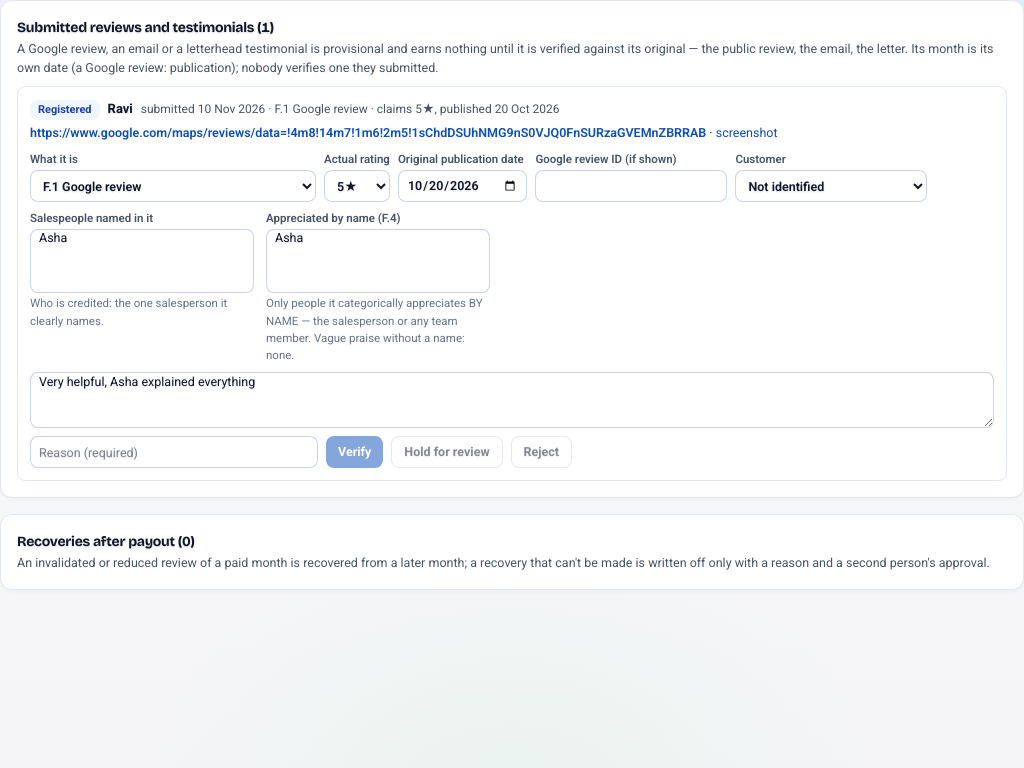
Test: Category F review screen: refusals (a right missing or removed after the page opened) › verify refused after the page opened: the message is shown, the buttons work again, everything typed stays, no refresh
Later steps or results of the test are not shown.
Select "4★" in the dropdown labelled "Actual rating". click: [357, 186]
box: x1=324 y1=170 x2=390 y2=202
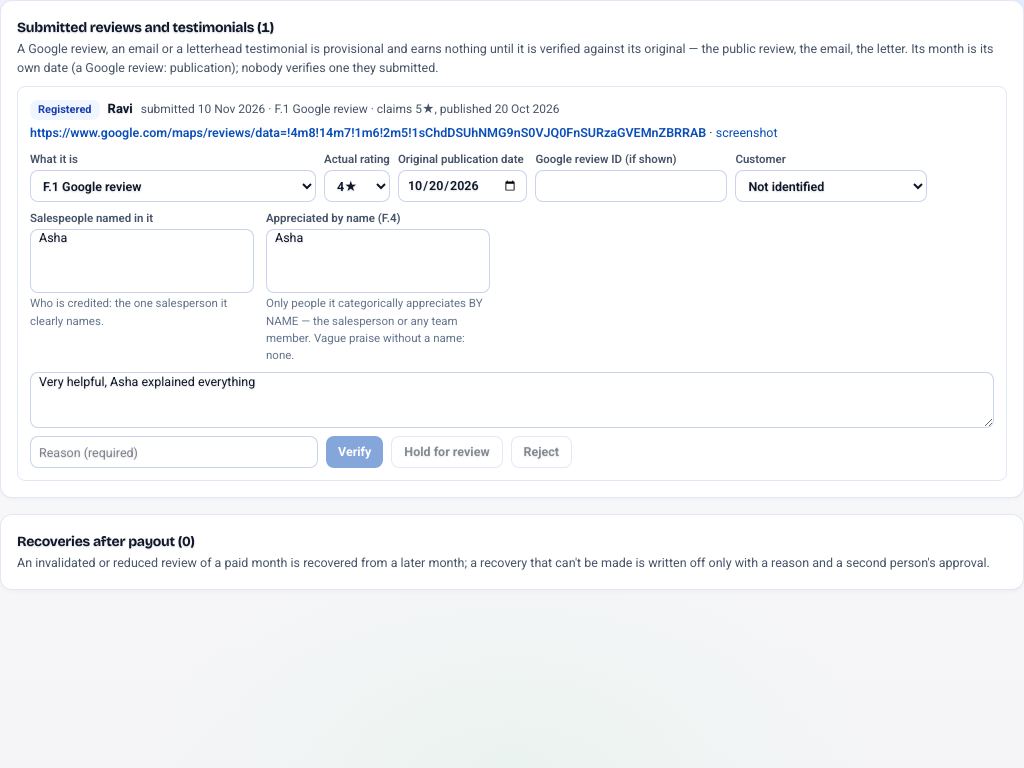
Type "ChdABC" into the field labelled "Google review ID". click: [631, 186]
box: x1=535 y1=170 x2=727 y2=202
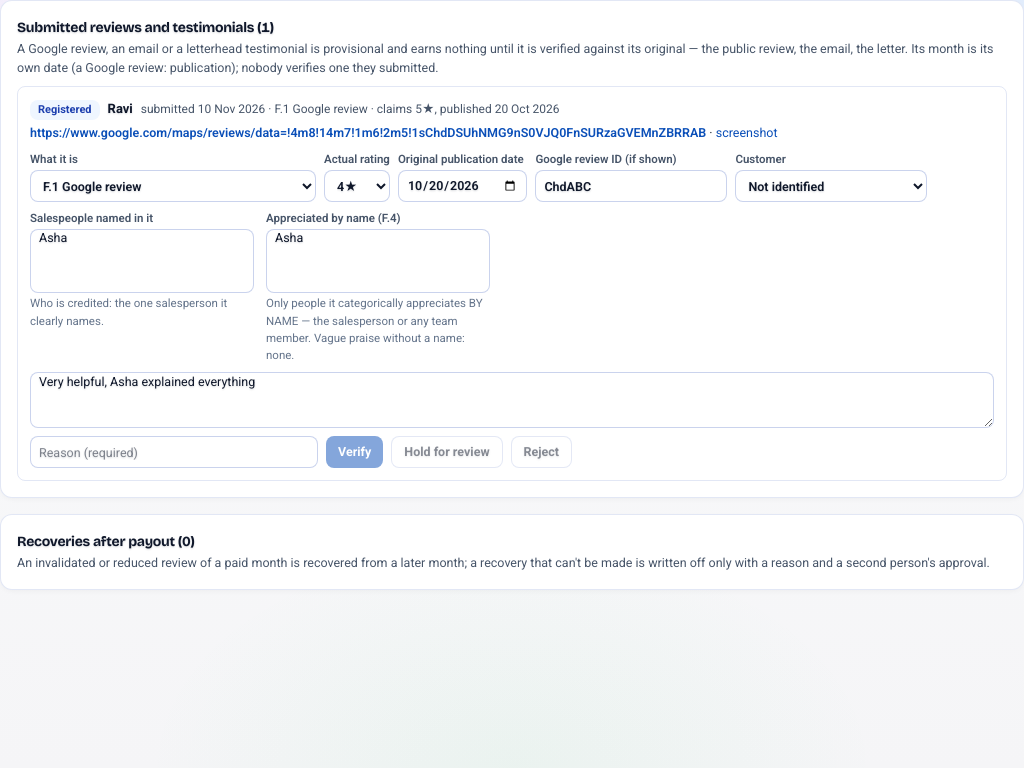
Type "Checked the public review" into the field with placeholder "Reason (required)". click: [174, 452]
box: x1=30 y1=436 x2=318 y2=468
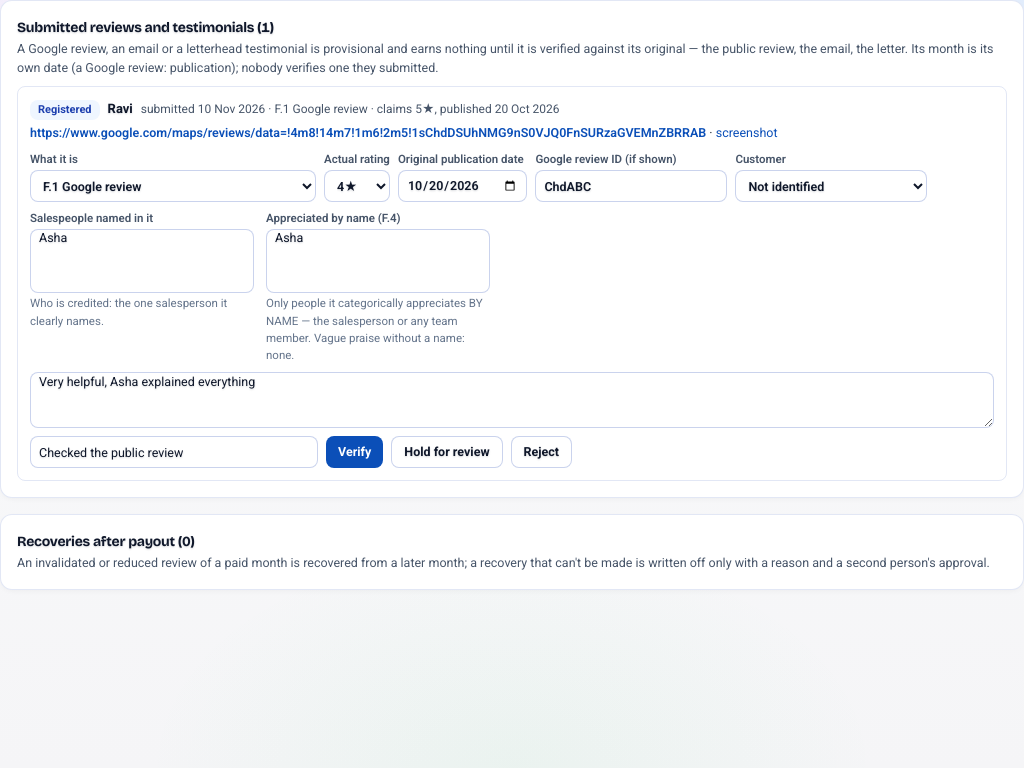
Click the button "Verify". click: [355, 452]
box: x1=326 y1=436 x2=383 y2=468
Check: the button "Verify" is enabled, box x1=326 y1=436 x2=383 y2=468
